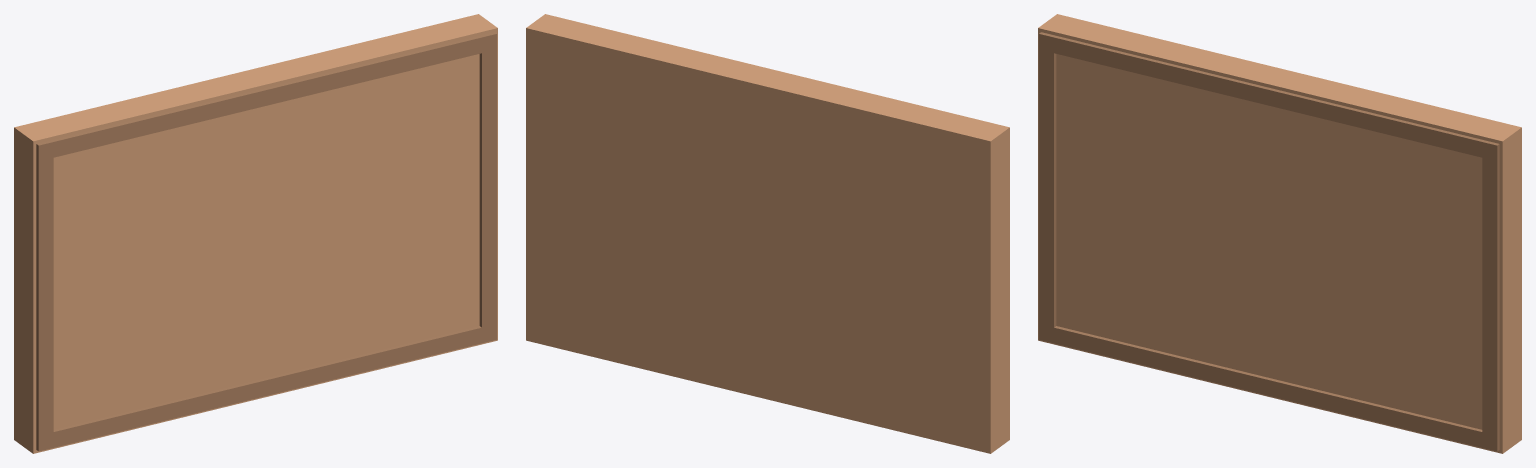
File: sign_acacia_wall.gltf
The picture shows the model from 3 angles, left to right: view 1: azimuth 30°, elevation 25°; view 2: azimuth 150°, elevation 25°; view 3: azimuth 330°, elevation 25°; orthographic projection.
Parts seen in each view (by area): view 1: sign_acacia_wall; view 2: sign_acacia_wall; view 3: sign_acacia_wall.
Part boxes in pixels (x1=…): sign_acacia_wall: x1=14, y1=14, x2=497, y2=453; sign_acacia_wall: x1=526, y1=14, x2=1009, y2=453; sign_acacia_wall: x1=1038, y1=14, x2=1521, y2=453.
Bounding box in the file's own units: 0.875 × 0.5625 × 0.07.
